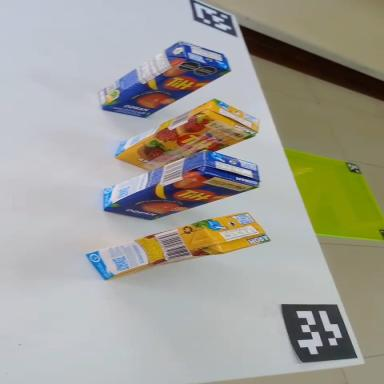HIT-MANGO: (96, 137, 263, 233), (91, 26, 232, 135)
HIT-MORA: (109, 87, 263, 184), (85, 207, 270, 283)
cara_F: (113, 101, 254, 187), (101, 43, 230, 134), (102, 158, 258, 233)
